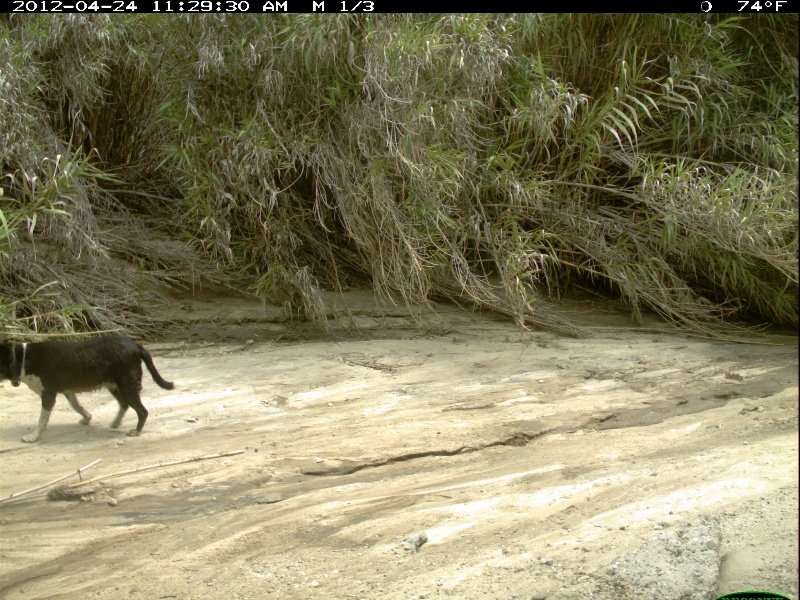dog: (1, 330, 177, 446)
